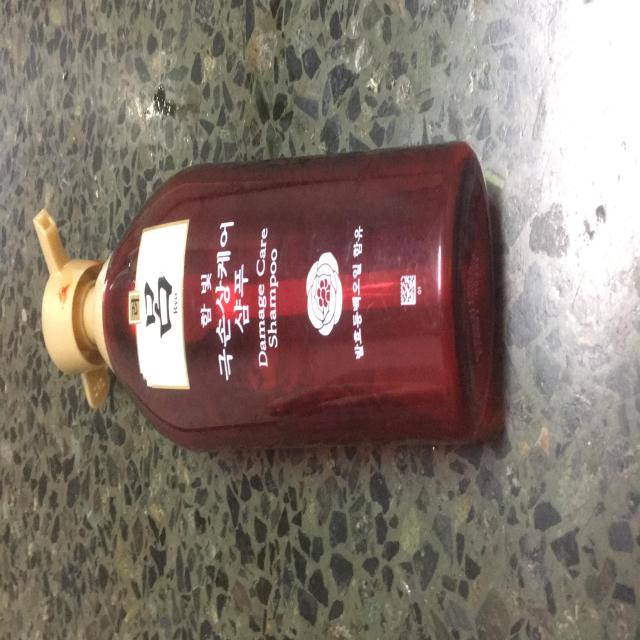bottle: (21, 148, 505, 448)
